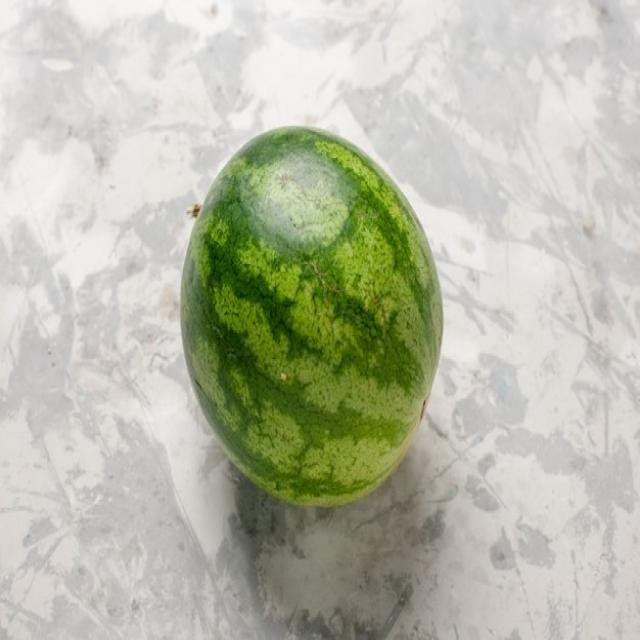watermelon: (181, 128, 449, 510)
